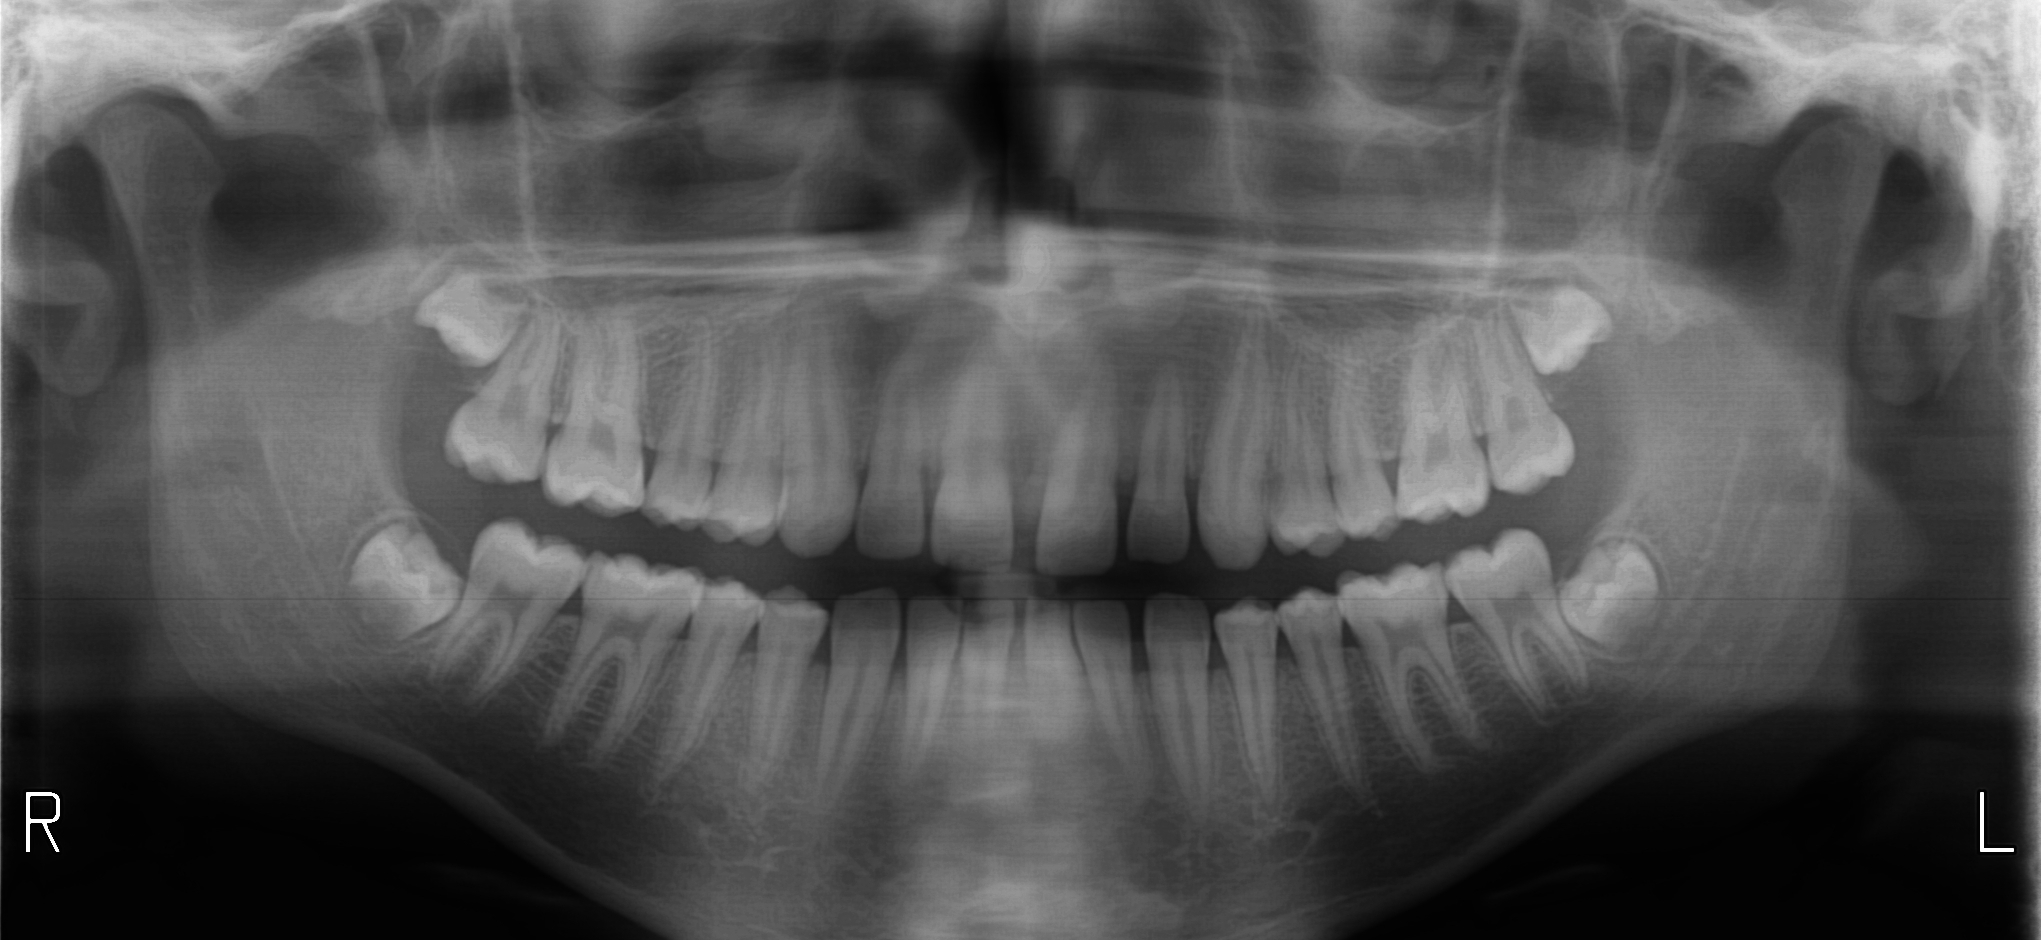cavity: (1270, 478, 1286, 510)
